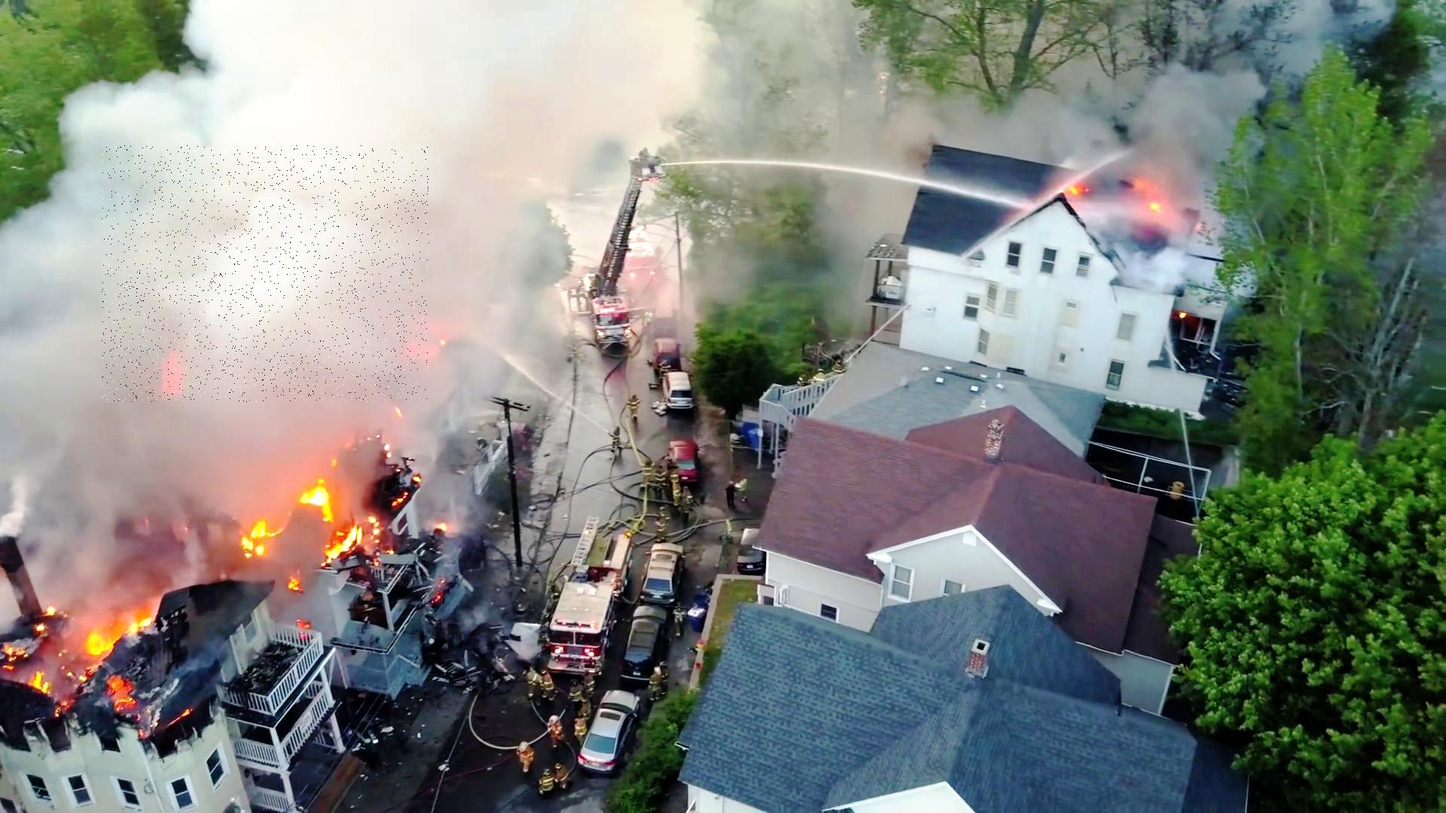smoke: (102, 145, 430, 402)
